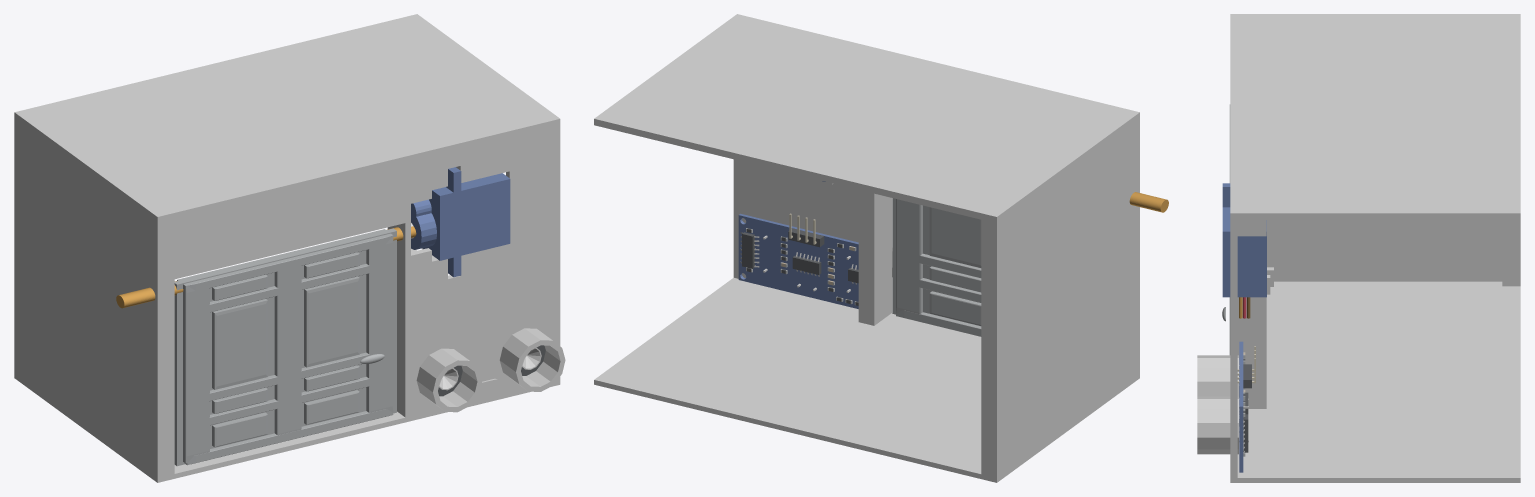
The model's file is garaje.glb.
3 views of the same model, side by side, from view 1: azimuth 30°, elevation 25°; view 2: azimuth 150°, elevation 25°; view 3: azimuth 270°, elevation 25° (orthographic).
Visible parts, largest first — view 1: Mesh_Mesh_head_geo.001_lambert2SG.001; view 2: Mesh_Mesh_head_geo.001_lambert2SG.001; view 3: Mesh_Mesh_head_geo.001_lambert2SG.001.
Part boxes in pixels (x1,y1,x2,y2): Mesh_Mesh_head_geo.001_lambert2SG.001: [14, 14, 565, 482]; Mesh_Mesh_head_geo.001_lambert2SG.001: [594, 14, 1168, 482]; Mesh_Mesh_head_geo.001_lambert2SG.001: [1197, 14, 1520, 482].
Size of the model in its own units: 0.14 by 0.082 by 0.0891.
